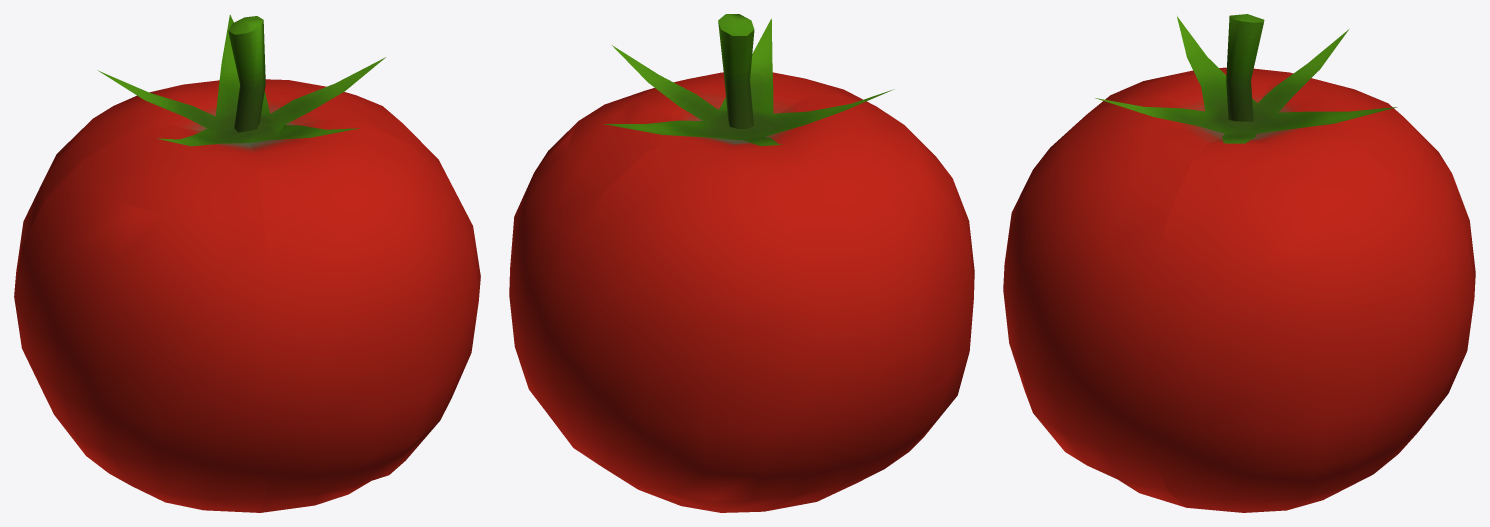
Rendered from tomato.glb.
3 renders of one model, left to right at view 1: azimuth 30°, elevation 25°; view 2: azimuth 150°, elevation 25°; view 3: azimuth 270°, elevation 25°, orthographic. The views are drawn at different scales.
Parts seen in each view (by area): view 1: Tomato_Whole; view 2: Tomato_Whole; view 3: Tomato_Whole.
Part boxes in pixels (left/top/right/bottom): Tomato_Whole: left=14, top=14, right=480, bottom=512; Tomato_Whole: left=509, top=14, right=974, bottom=512; Tomato_Whole: left=1003, top=14, right=1475, bottom=512.
Size of the model in its own units: 1.07 by 1.17 by 1.07.
1 material, 1 textured.
